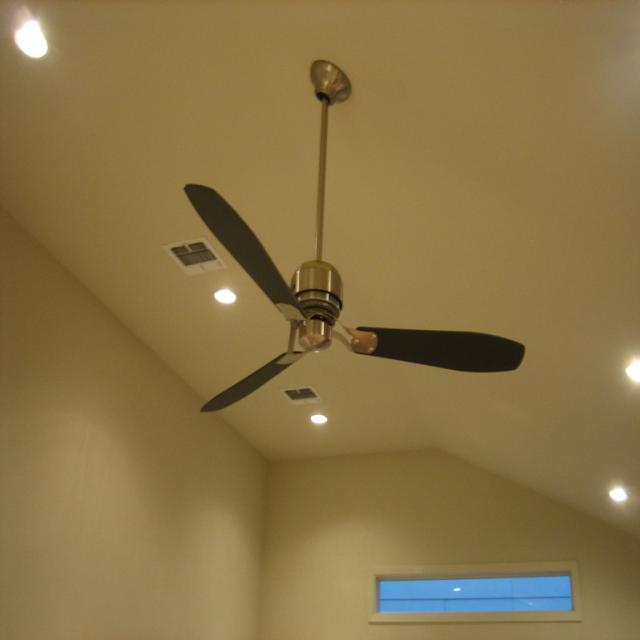Bulb: (181, 58, 525, 454)
